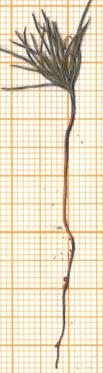flower: (0, 0, 103, 96)
root: (52, 230, 79, 370)
stem: (59, 95, 80, 230)
